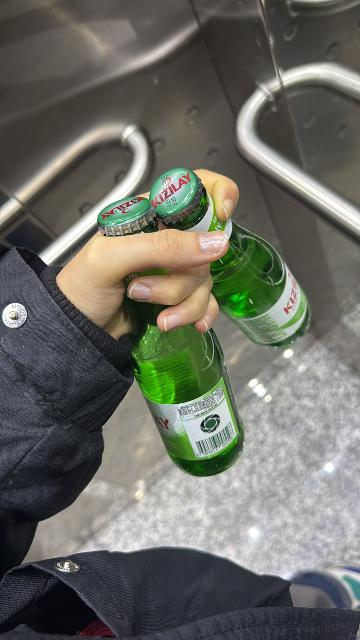Cam: (95, 166, 318, 478)
Metal: (88, 158, 212, 240)
